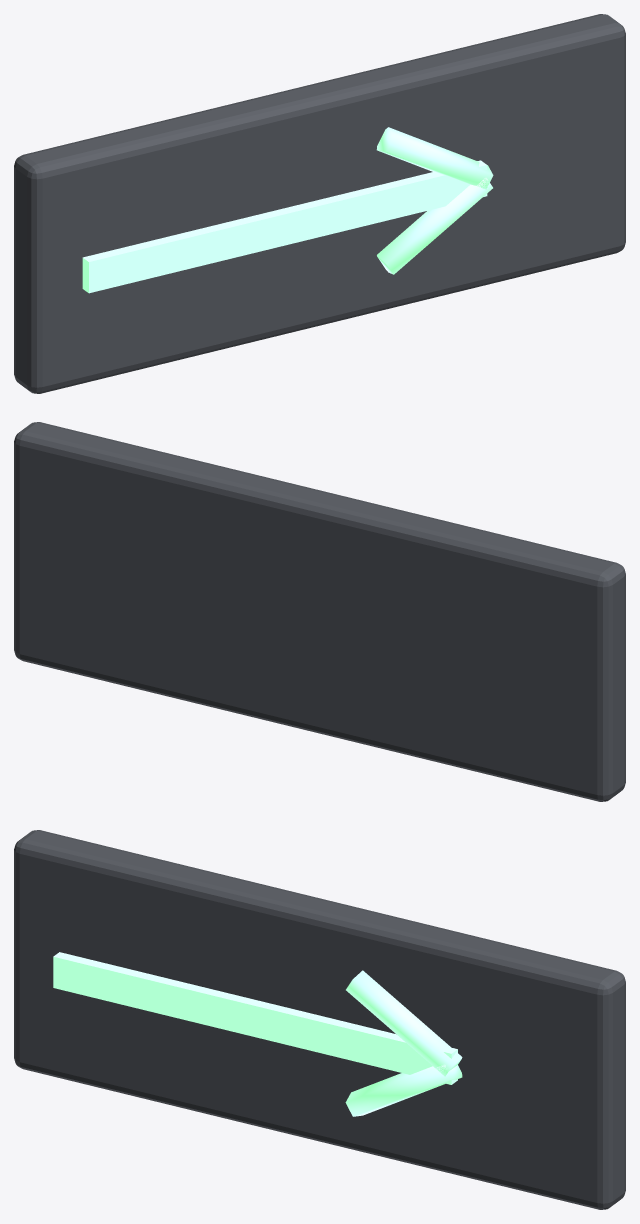
File: signage_exit_arrow.glb
The picture shows the model from 3 angles, top to bottom: view 1: azimuth 30°, elevation 25°; view 2: azimuth 150°, elevation 25°; view 3: azimuth 330°, elevation 25°; orthographic projection.
Visible parts, largest first — view 1: GD_signage_exit_arrow__m0, GD_signage_exit_arrow__m1; view 2: GD_signage_exit_arrow__m0; view 3: GD_signage_exit_arrow__m0, GD_signage_exit_arrow__m1.
Part boxes in pixels (left/top/right/bottom): GD_signage_exit_arrow__m0: left=14, top=14, right=625, bottom=393; GD_signage_exit_arrow__m1: left=82, top=127, right=493, bottom=293; GD_signage_exit_arrow__m0: left=14, top=422, right=625, bottom=801; GD_signage_exit_arrow__m0: left=14, top=830, right=625, bottom=1209; GD_signage_exit_arrow__m1: left=53, top=952, right=462, bottom=1116.
Size of the model in its own units: 0.6 by 0.22 by 0.0557.
